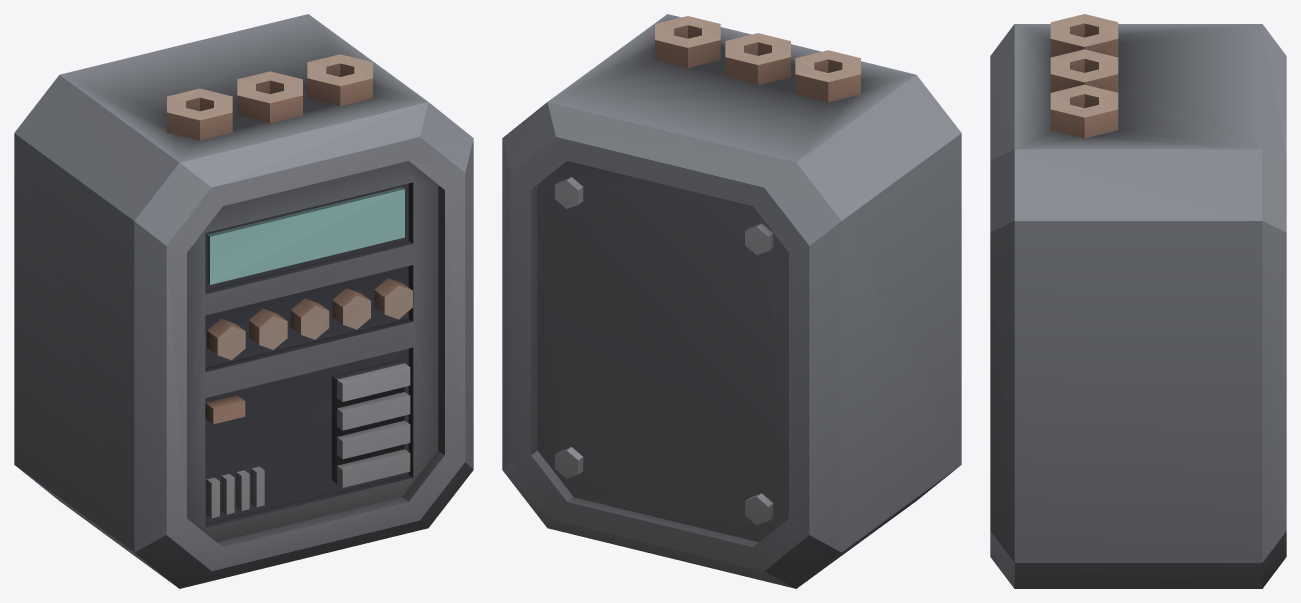
Rendered from battery.glb.
3 views of the same model, side by side, from view 1: azimuth 30°, elevation 25°; view 2: azimuth 150°, elevation 25°; view 3: azimuth 270°, elevation 25° (orthographic). The views are drawn at different scales.
Visible parts, largest first — view 1: battery; view 2: battery; view 3: battery.
Part boxes in pixels (x1,y1,x2,y2): battery: (14,14,473,588); battery: (502,14,961,588); battery: (990,14,1286,588).
Size of the model in its own units: 1.5 by 1.88 by 1.1.
